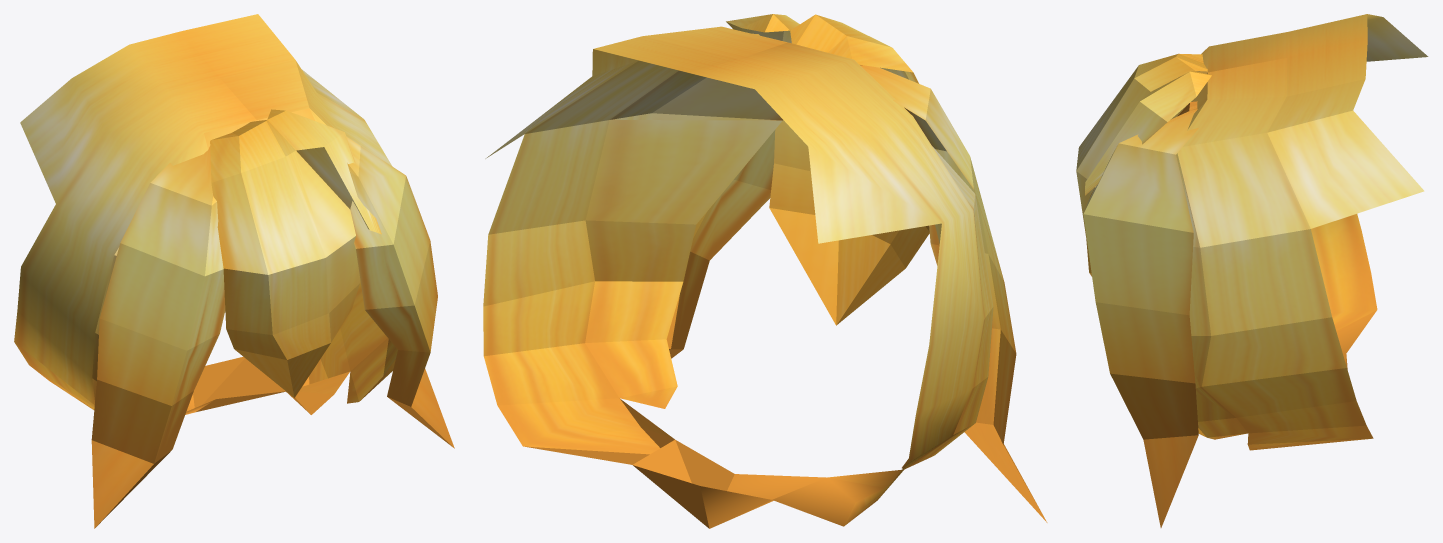
The model's file is head1.fbx.
The picture shows the model from 3 angles, left to right: view 1: azimuth 30°, elevation 25°; view 2: azimuth 150°, elevation 25°; view 3: azimuth 270°, elevation 25°; orthographic projection. The views are drawn at different scales.
Parts seen in each view (by area): view 1: hair2; view 2: hair2; view 3: hair2.
Part boxes in pixels (x1,y1,x2,y2): hair2: (14, 14, 454, 528); hair2: (483, 14, 1047, 528); hair2: (1076, 14, 1428, 527).
Size of the model in its own units: 4.67 by 4.81 by 3.83.
